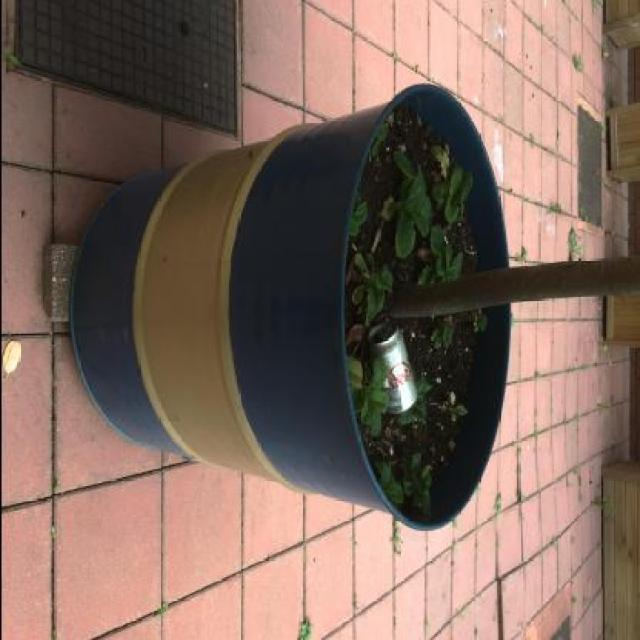metal: (366, 320, 417, 414)
